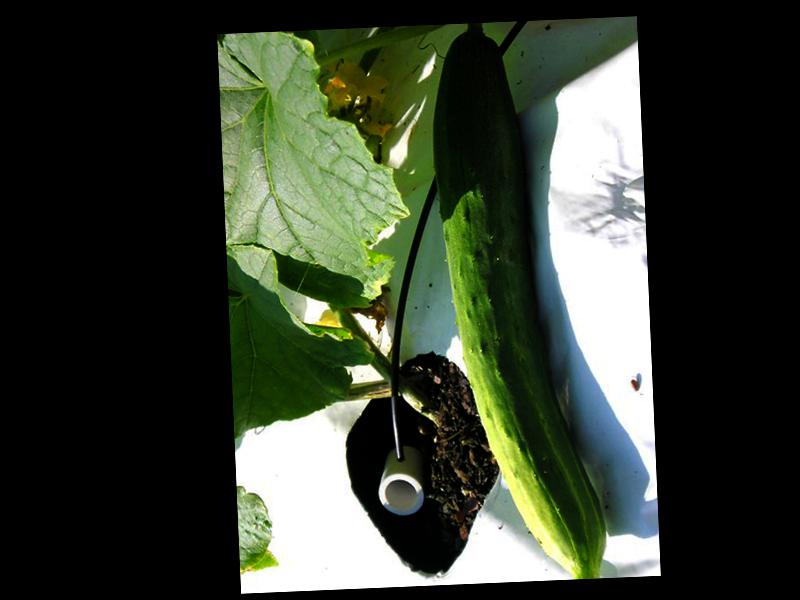Cucumber: (429, 21, 607, 583)
